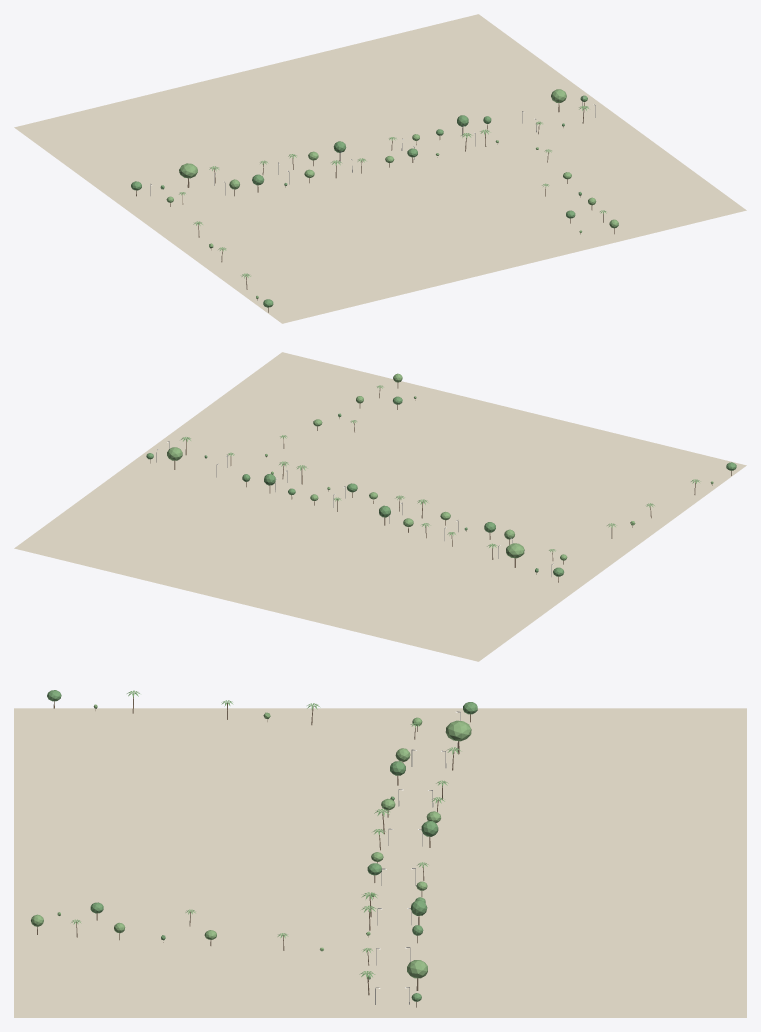
Rendered from nature_3_-4.glb.
3 views of the same model, one above another, from view 1: azimuth 30°, elevation 25°; view 2: azimuth 150°, elevation 25°; view 3: azimuth 270°, elevation 25° (orthographic). The views are drawn at different scales.
Visible parts, largest first — view 1: ground, foliage_b, foliage_a; view 2: ground, foliage_b, foliage_a, trunk; view 3: ground, foliage_b, foliage_a, palm_leaf, trunk.
Boxes of the visible parts, x1,y1,x2,y2 form: ground: (14, 14, 746, 323); foliage_b: (166, 89, 618, 298); foliage_a: (131, 95, 587, 307); ground: (14, 352, 746, 661); foliage_b: (167, 373, 713, 560); foliage_a: (146, 396, 736, 576); trunk: (150, 383, 731, 582); ground: (14, 708, 746, 1017); foliage_b: (31, 704, 471, 978); foliage_a: (47, 690, 477, 1001); palm_leaf: (71, 690, 461, 978); trunk: (37, 696, 470, 1007).
Size of the model in its own units: 252 by 12.08 by 250.
